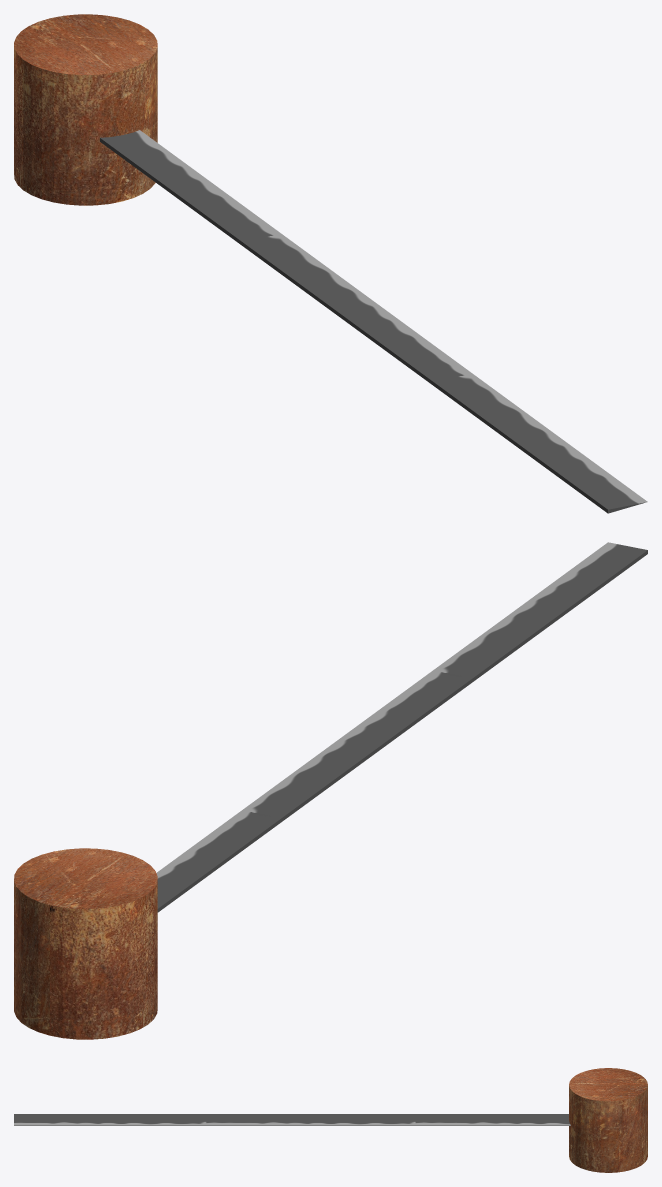
Rendered from Cutter.gltf.
3 views of the same model, one above another, from view 1: azimuth 30°, elevation 25°; view 2: azimuth 150°, elevation 25°; view 3: azimuth 270°, elevation 25° (orthographic). The views are drawn at different scales.
Visible parts, largest first — view 1: Cylinder, Cube; view 2: Cylinder, Cube; view 3: Cylinder, Cube.
Boxes of the visible parts, box(x1,y1,x2,y2) form: Cylinder: box(14, 14, 157, 205); Cube: box(100, 130, 647, 513); Cylinder: box(14, 848, 157, 1039); Cube: box(156, 542, 647, 912); Cylinder: box(569, 1068, 647, 1172); Cube: box(14, 1114, 570, 1125).
Size of the model in its own units: 2 by 2 by 16.05.
2 materials, 2 textured.
